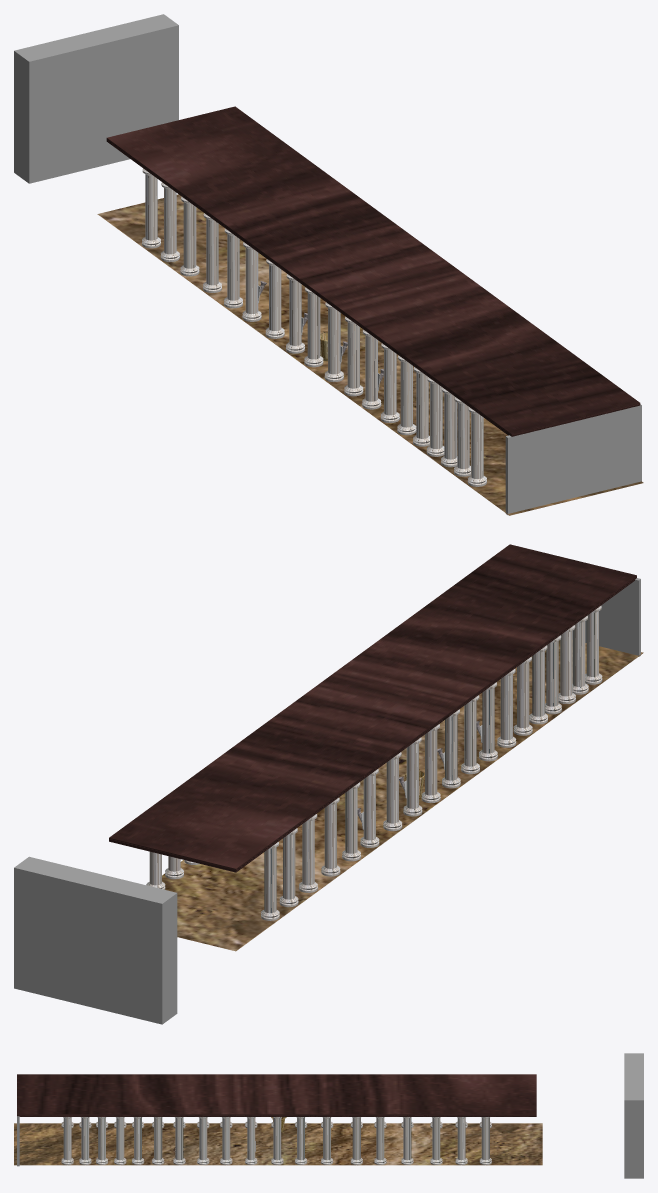
File: environment.fbx
The picture shows the model from 3 angles, top to bottom: view 1: azimuth 30°, elevation 25°; view 2: azimuth 150°, elevation 25°; view 3: azimuth 270°, elevation 25°; orthographic projection. The views are drawn at different scales.
Parts seen in each view (by area): view 1: Ceiling, Background, Floor, Back_Wall, Left_Column_3, Left_Column_6, Left_Column_9, Left_Column_14, Left_Column_11, Left_Column_7, Left_Column_12, Left_Column_10 (+11 smaller); view 2: Ceiling, Background, Floor, Back_Wall, Left_Column_2, Left_Column_14, Left_Column_8, Left_Column_4, Left_Column_13, Left_Column_6, Left_Column_7, Left_Column_10 (+11 smaller); view 3: Ceiling, Floor, Background, Right_Column_1, Right_Column_3, Right_Column_5, Right_Column_6, Right_Column_10, Right_Column_11, Right_Column_12, Right_Column_16, Right_Column_18 (+10 smaller).
Boxes of the visible parts, x1,y1,x2,y2 form: Ceiling: (106,106,640,436); Background: (14,14,178,183); Floor: (97,194,643,515); Back_Wall: (505,404,641,515); Left_Column_3: (180,196,199,276); Left_Column_6: (242,242,261,321); Left_Column_9: (304,287,323,367); Left_Column_14: (397,355,416,435); Left_Column_11: (344,316,363,396); Left_Column_7: (265,259,284,338); Left_Column_12: (362,329,381,409); Left_Column_10: (324,302,343,382); Ceiling: (109,544,636,872); Background: (14,856,177,1024); Floor: (162,640,643,951); Back_Wall: (572,578,640,656); Left_Column_2: (279,828,298,907); Left_Column_14: (513,657,532,735); Left_Column_8: (403,737,422,816); Left_Column_4: (321,797,340,876); Left_Column_13: (497,669,516,747); Left_Column_6: (360,769,379,847); Left_Column_7: (383,752,402,831); Left_Column_10: (442,709,460,788); Ceiling: (17,1074,536,1116); Floor: (14,1123,542,1165); Background: (624,1053,643,1178); Right_Column_1: (479,1117,491,1165); Right_Column_3: (430,1117,442,1165); Right_Column_5: (374,1117,386,1165); Right_Column_6: (350,1117,362,1165); Right_Column_10: (245,1117,257,1165); Right_Column_11: (220,1117,232,1165); Right_Column_12: (197,1117,209,1165); Right_Column_16: (114,1117,126,1165); Right_Column_18: (79,1117,91,1165).
Bounding box in the file's own units: 94.21 × 73.29 × 535.
